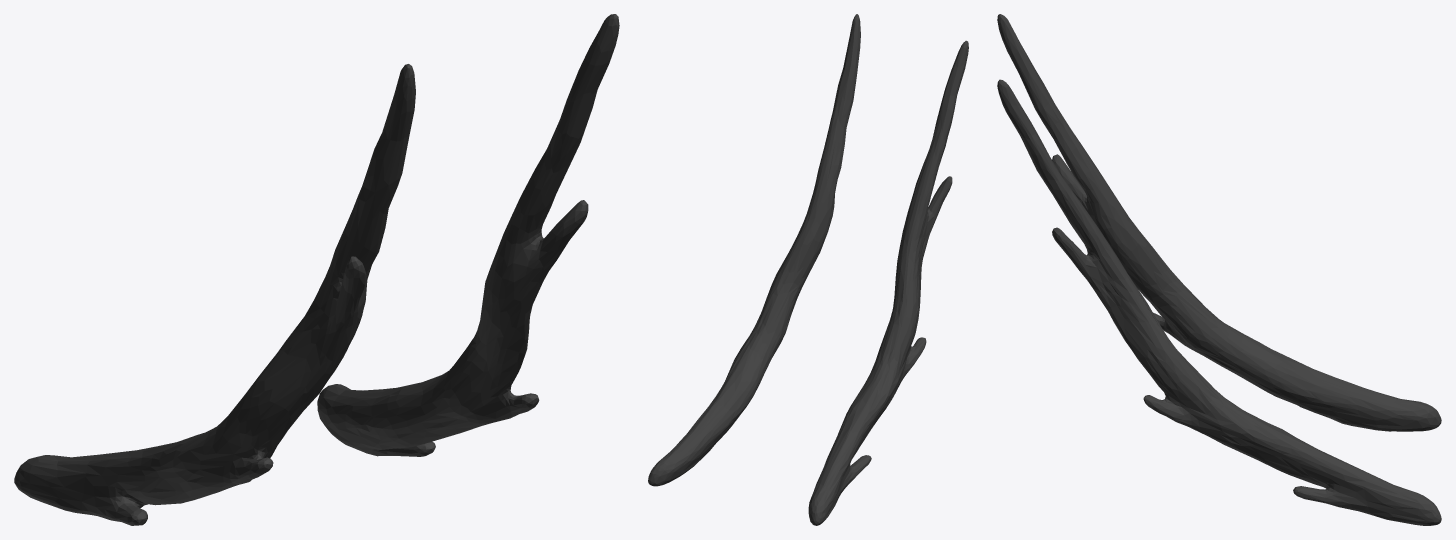
File: m_iliocostalis_cervicis.glb
The picture shows the model from 3 angles, left to right: view 1: azimuth 30°, elevation 25°; view 2: azimuth 150°, elevation 25°; view 3: azimuth 270°, elevation 25°; orthographic projection. The views are drawn at different scales.
Visible parts, largest first — view 1: m_iliocostalis_cervicis; view 2: m_iliocostalis_cervicis; view 3: m_iliocostalis_cervicis.
Boxes of the visible parts, box(x1,y1,x2,y2) form: m_iliocostalis_cervicis: box(14, 14, 619, 525); m_iliocostalis_cervicis: box(648, 14, 968, 525); m_iliocostalis_cervicis: box(997, 14, 1441, 525).
Size of the model in its own units: 0.00171 by 0.00329 by 0.00308.
1 material, 1 textured.
